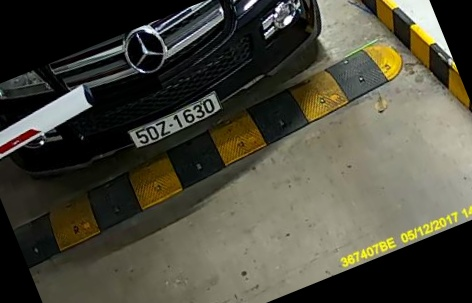plate: (125, 92, 222, 154)
